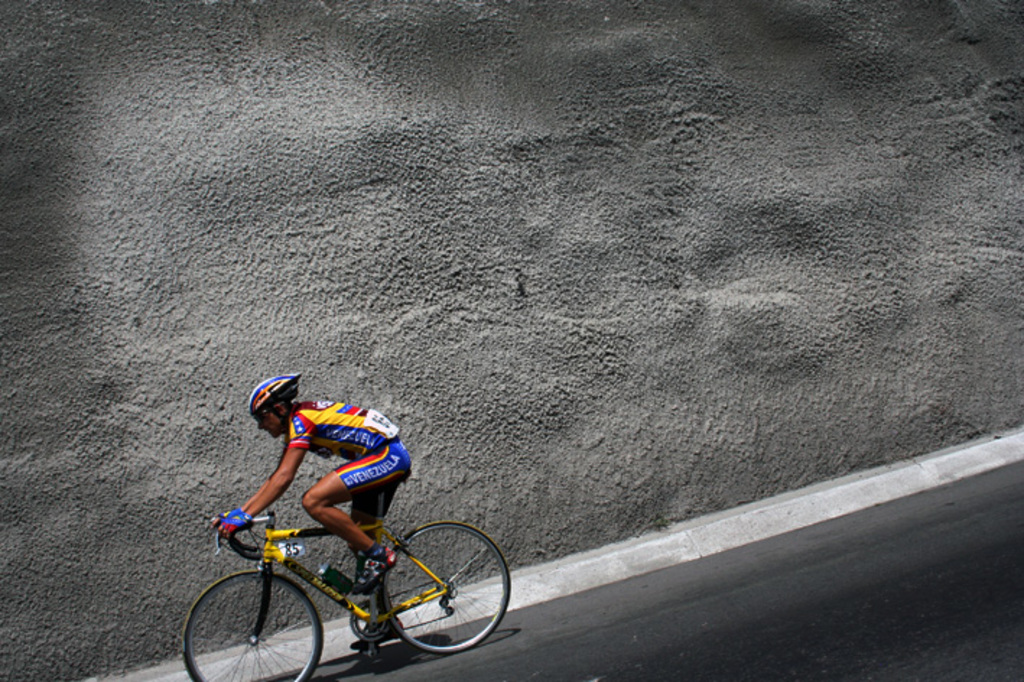Bike: (175, 504, 574, 682)
